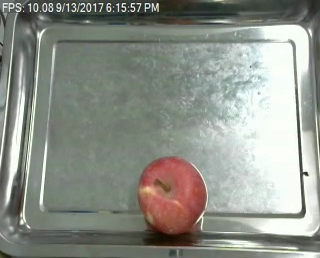Apple: (134, 155, 208, 236)
